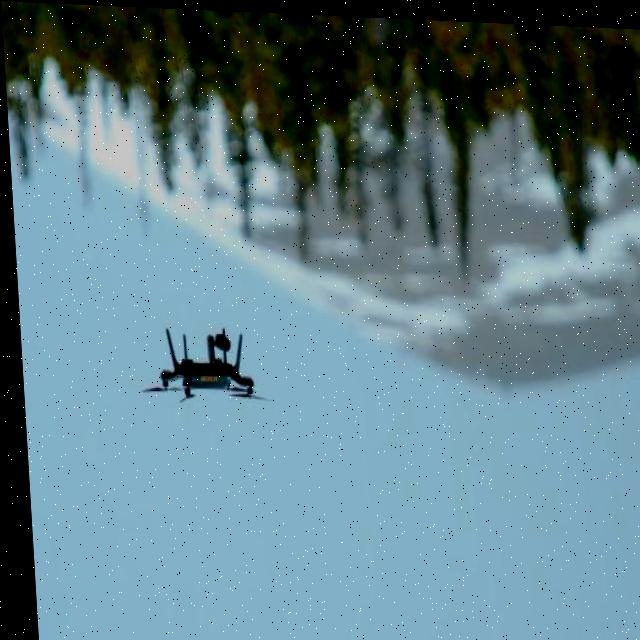drone: (134, 324, 264, 407)
